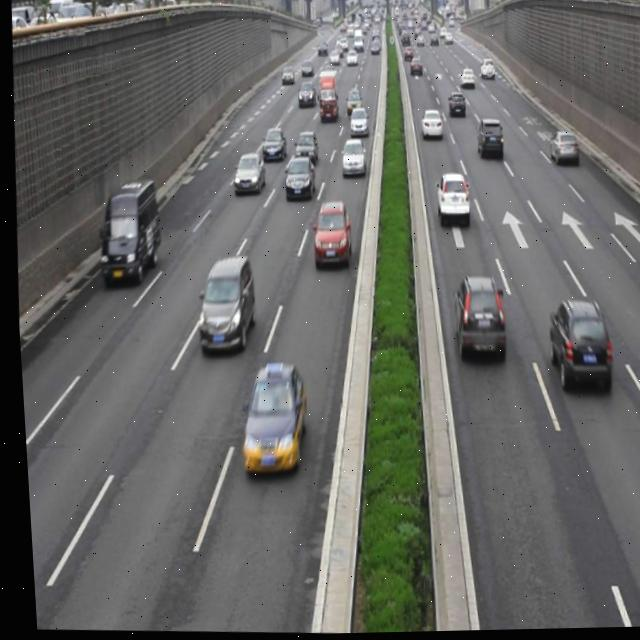car: (232, 361, 305, 471), (540, 298, 608, 393), (446, 272, 502, 359), (308, 199, 350, 269), (431, 173, 468, 224), (281, 154, 314, 200), (230, 152, 264, 195), (544, 131, 578, 171), (472, 118, 502, 163), (337, 137, 365, 177), (259, 127, 284, 163), (292, 129, 317, 165), (416, 107, 441, 141), (345, 108, 367, 138), (447, 90, 465, 117)
truck: (94, 176, 161, 283), (189, 255, 255, 355)
